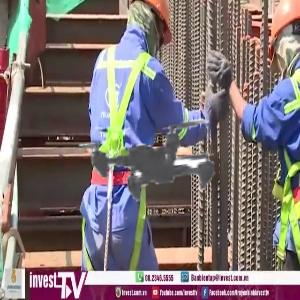drone: (37, 54, 279, 296)
